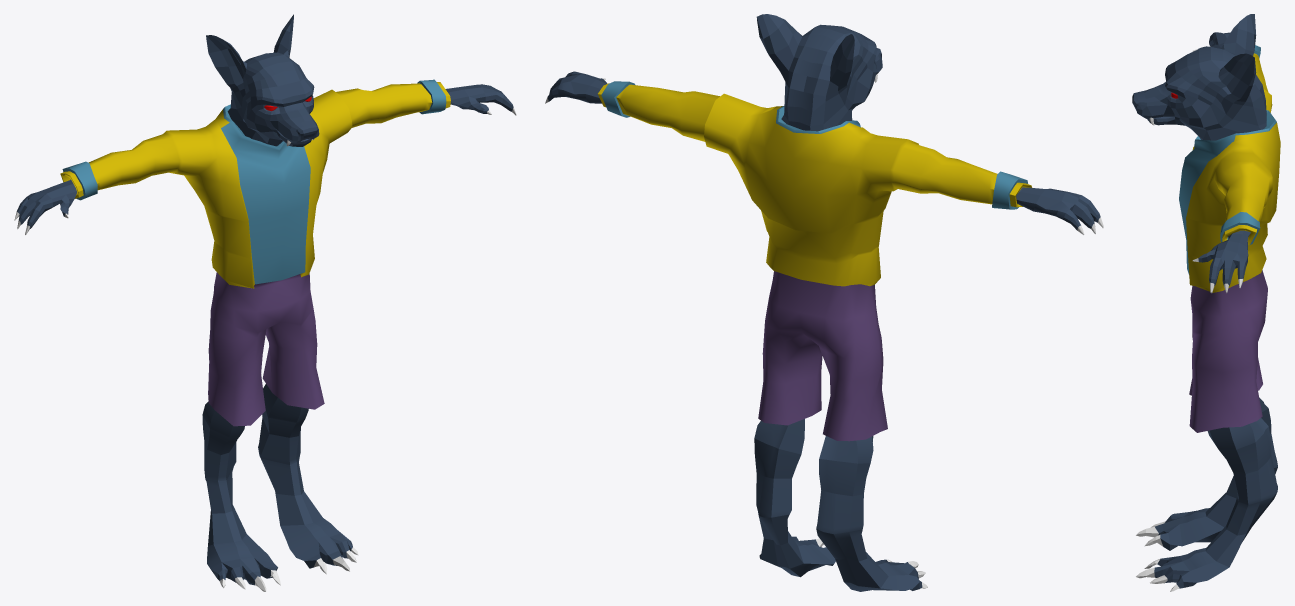
File: Wolf.fbx
The picture shows the model from 3 angles, left to right: view 1: azimuth 30°, elevation 25°; view 2: azimuth 150°, elevation 25°; view 3: azimuth 270°, elevation 25°; orthographic projection. The views are drawn at different scales.
Parts seen in each view (by area): view 1: Wolf_Character2; view 2: Wolf_Character2; view 3: Wolf_Character2.
Boxes of the visible parts, box(x1,y1,x2,y2) form: Wolf_Character2: box(14, 14, 516, 591); Wolf_Character2: box(545, 14, 1103, 591); Wolf_Character2: box(1132, 14, 1280, 591).
Bounding box in the file's own units: 183 × 185 × 47.25.
